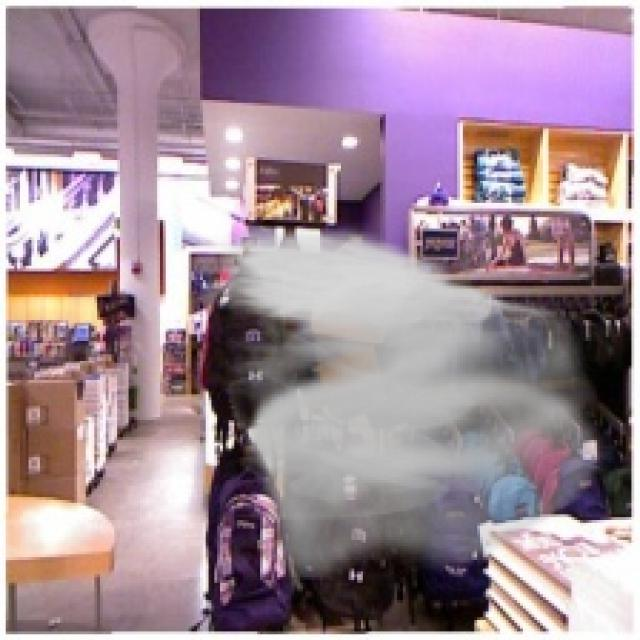smoke: (200, 223, 614, 580)
